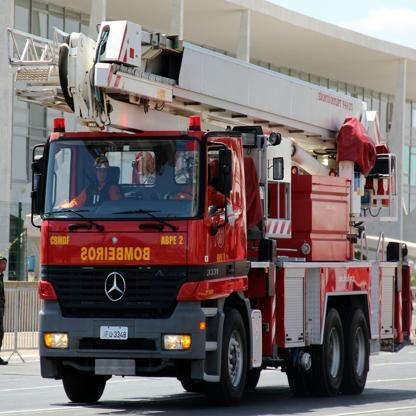fire-truck: (8, 59, 413, 416)
